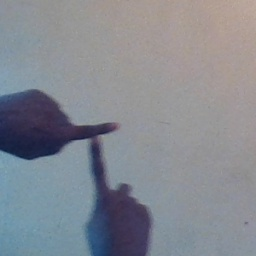T: (43, 96, 145, 216)
